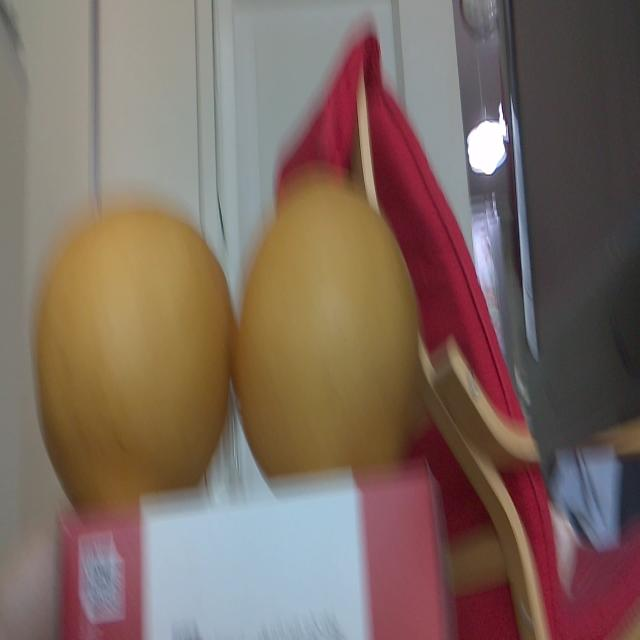pear: (236, 167, 438, 502), (31, 198, 235, 526)
